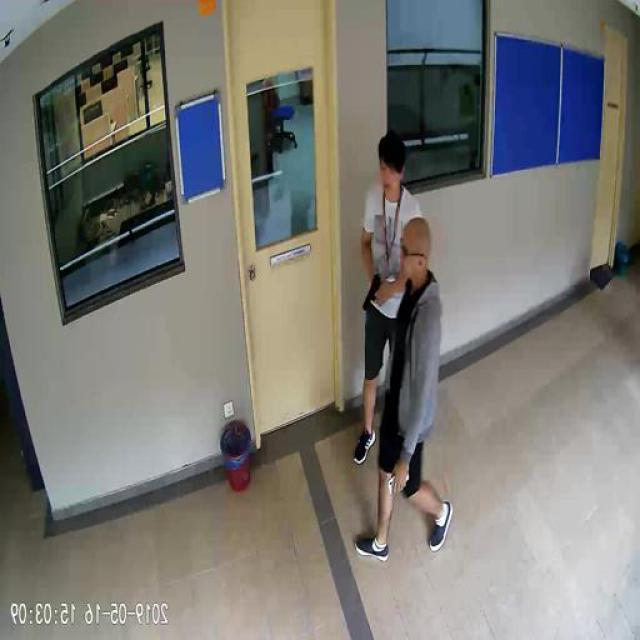Gun: (364, 272, 384, 310)
